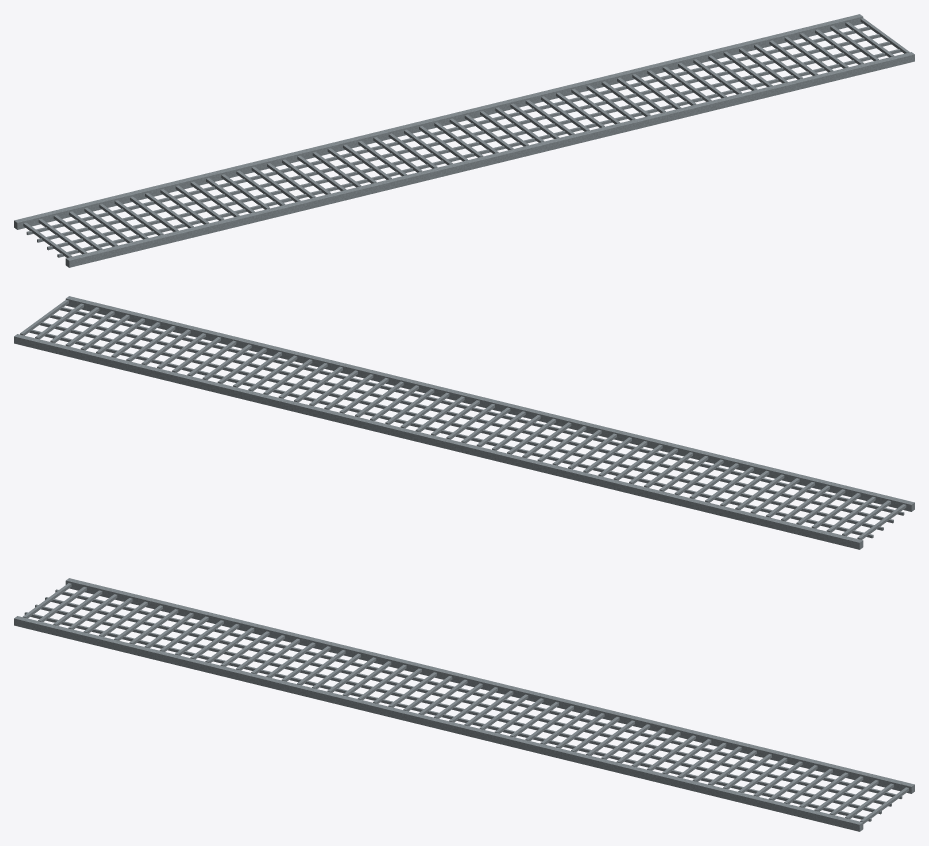
File: PZ_10_ServiceGrate_10m.glb
3 renders of one model, top to bottom at view 1: azimuth 30°, elevation 25°; view 2: azimuth 150°, elevation 25°; view 3: azimuth 330°, elevation 25°, orthographic.
Parts seen in each view (by area): view 1: GRATE_WalkFrame_R, GRATE_WalkFrame_L, GRATE_Longitudinal_01, GRATE_Longitudinal_02, GRATE_Longitudinal_03, GRATE_Longitudinal_00; view 2: GRATE_WalkFrame_L, GRATE_WalkFrame_R, GRATE_Longitudinal_02, GRATE_Longitudinal_03, GRATE_Longitudinal_00, GRATE_Longitudinal_01; view 3: GRATE_WalkFrame_R, GRATE_WalkFrame_L, GRATE_Longitudinal_01, GRATE_Longitudinal_02, GRATE_Longitudinal_03, GRATE_Longitudinal_00.
Boxes of the visible parts, left/top/right/bottom form: GRATE_WalkFrame_R: left=65, top=52, right=914, bottom=267; GRATE_WalkFrame_L: left=14, top=14, right=863, bottom=229; GRATE_Longitudinal_01: left=37, top=34, right=880, bottom=242; GRATE_Longitudinal_02: left=47, top=41, right=891, bottom=250; GRATE_Longitudinal_03: left=57, top=49, right=901, bottom=257; GRATE_Longitudinal_00: left=26, top=26, right=870, bottom=234; GRATE_WalkFrame_L: left=14, top=334, right=863, bottom=549; GRATE_WalkFrame_R: left=65, top=296, right=914, bottom=511; GRATE_Longitudinal_02: left=50, top=314, right=893, bottom=523; GRATE_Longitudinal_03: left=60, top=307, right=904, bottom=515; GRATE_Longitudinal_00: left=29, top=329, right=873, bottom=538; GRATE_Longitudinal_01: left=40, top=322, right=883, bottom=530; GRATE_WalkFrame_R: left=14, top=616, right=863, bottom=831; GRATE_WalkFrame_L: left=65, top=578, right=914, bottom=793; GRATE_Longitudinal_01: left=45, top=597, right=891, bottom=806; GRATE_Longitudinal_02: left=35, top=604, right=881, bottom=814; GRATE_Longitudinal_03: left=24, top=612, right=871, bottom=821; GRATE_Longitudinal_00: left=55, top=589, right=902, bottom=798.
Bounding box in the file's own units: 10 × 0.08 × 1.13.
Materials: 1 (1 with a texture image).
